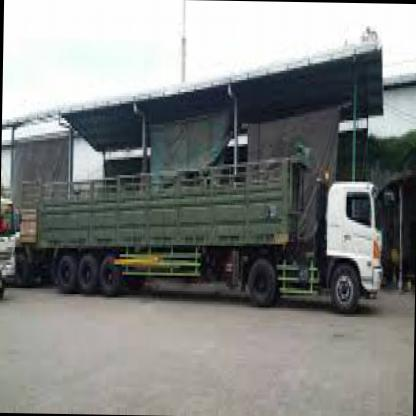truck: (323, 175, 387, 316)
